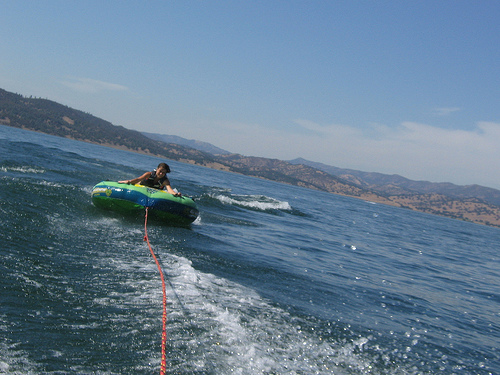without_mask: (155, 164, 169, 180)
